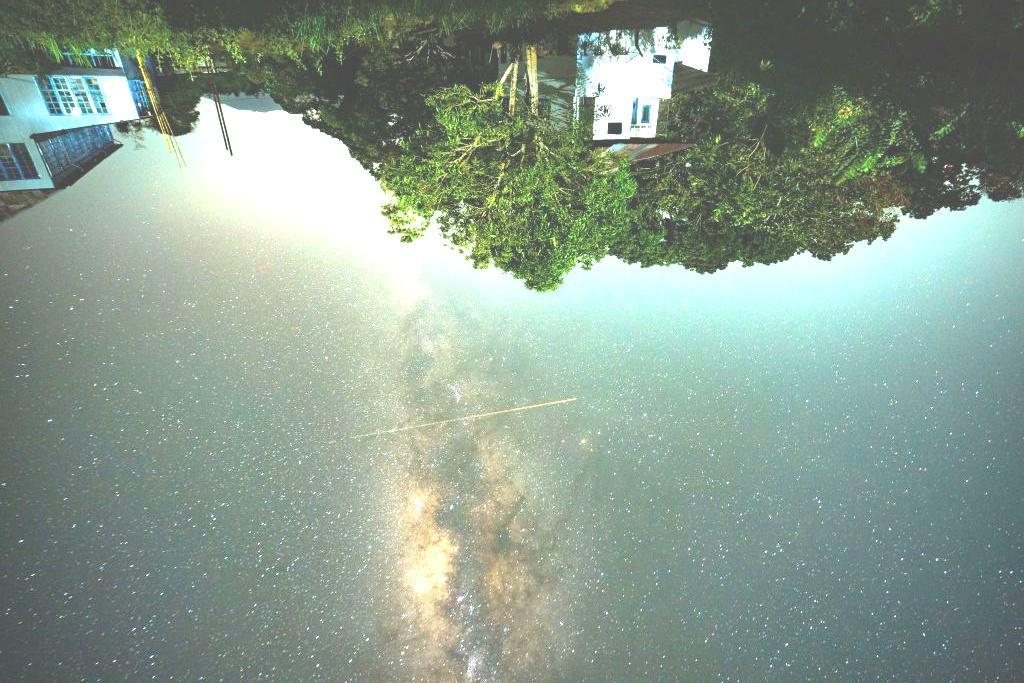meteorite: (448, 392, 591, 430)
